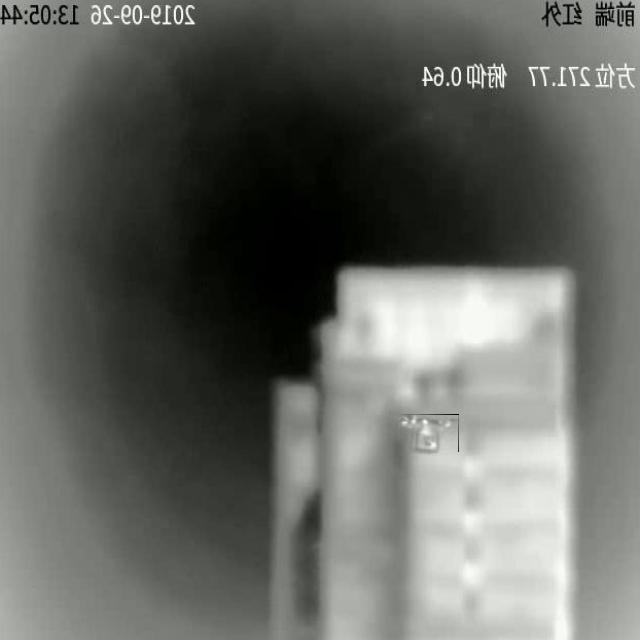drone: (400, 414, 458, 452)
